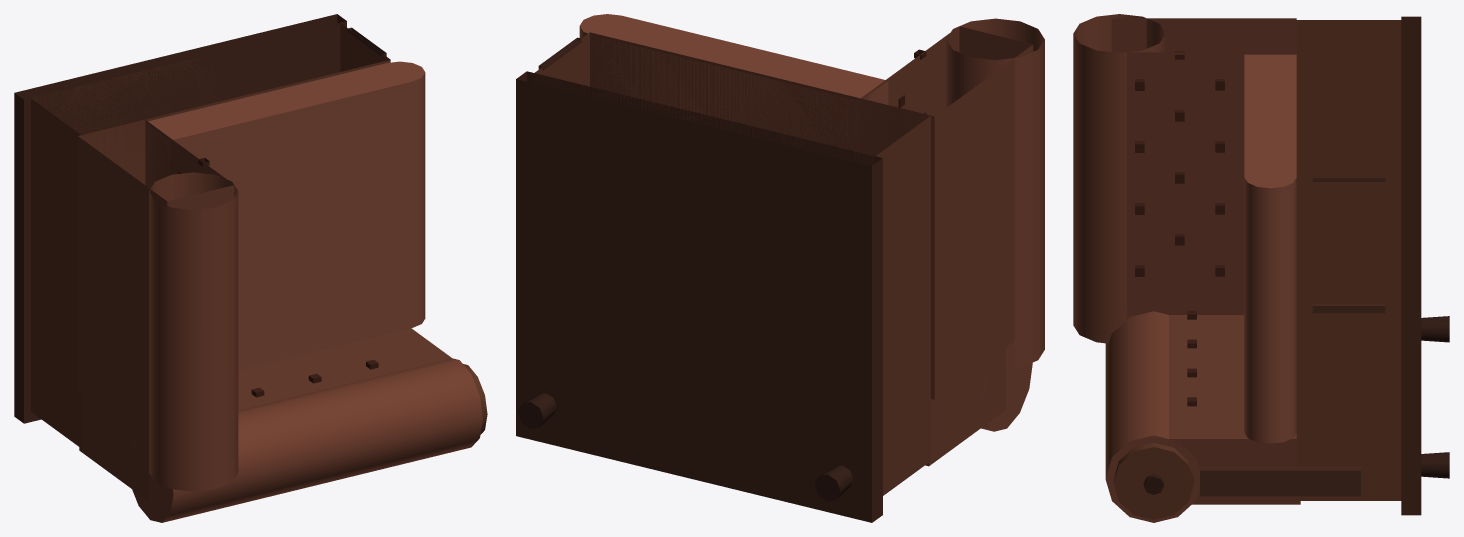
Rendered from section-1.obj.
3 views of the same model, side by side, from view 1: azimuth 30°, elevation 25°; view 2: azimuth 150°, elevation 25°; view 3: azimuth 270°, elevation 25° (orthographic). The views are drawn at different scales.
Size of the model in its own units: 1.01 by 0.963 by 0.935.
1 material, 1 textured.
